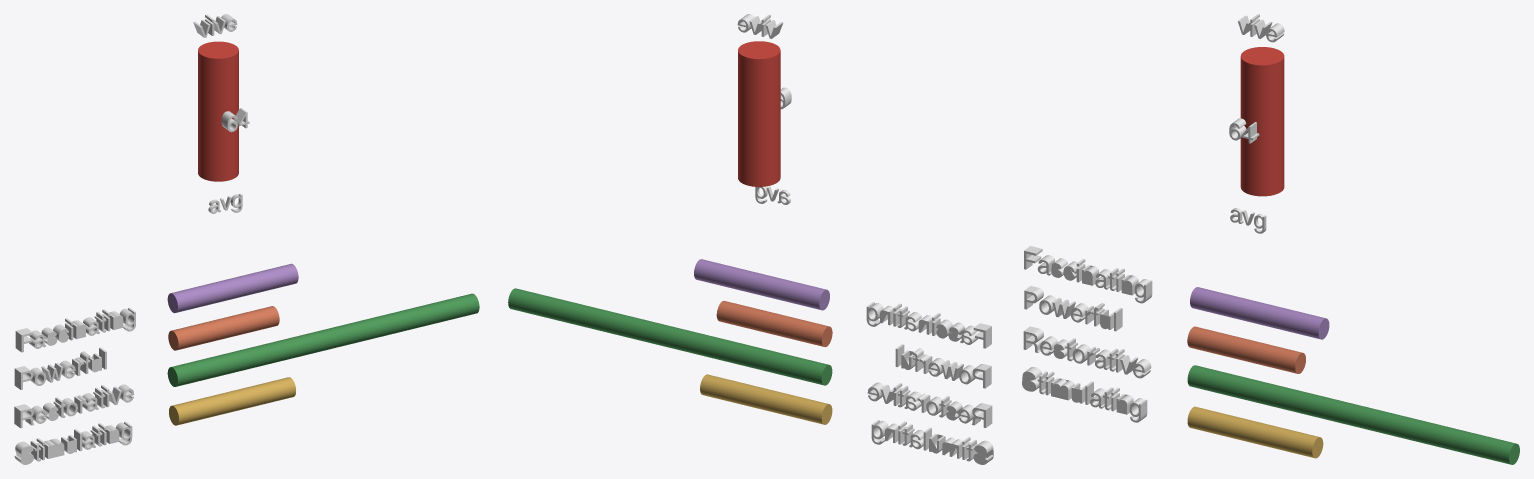
The model's file is intotheblue.fbx.
3 renders of one model, left to right at view 1: azimuth 30°, elevation 25°; view 2: azimuth 150°, elevation 25°; view 3: azimuth 330°, elevation 25°, orthographic. The views are drawn at different scales.
Visible parts, largest first — view 1: Cylinder_8, Cylinder, Cylinder_6, Cylinder_9, Cylinder_7; view 2: Cylinder_8, Cylinder, Cylinder_6, Cylinder_9, Cylinder_7; view 3: Cylinder_8, Cylinder, Cylinder_6, Cylinder_9, Cylinder_7.
Part boxes in pixels (bbox=[...]): Cylinder_8: bbox=[167, 293, 479, 386]; Cylinder: bbox=[198, 41, 238, 181]; Cylinder_6: bbox=[167, 263, 298, 313]; Cylinder_9: bbox=[169, 377, 295, 425]; Cylinder_7: bbox=[168, 306, 279, 350]; Cylinder_8: bbox=[508, 288, 832, 385]; Cylinder: bbox=[738, 41, 780, 186]; Cylinder_6: bbox=[694, 259, 829, 310]; Cylinder_9: bbox=[700, 374, 832, 424]; Cylinder_7: bbox=[716, 301, 832, 347]; Cylinder_8: bbox=[1187, 365, 1519, 464]; Cylinder: bbox=[1240, 47, 1284, 196]; Cylinder_6: bbox=[1190, 287, 1329, 339]; Cylinder_9: bbox=[1187, 406, 1323, 458]; Cylinder_7: bbox=[1187, 326, 1305, 373].
Bounding box in the file's own units: 258 × 212 × 29.75.
